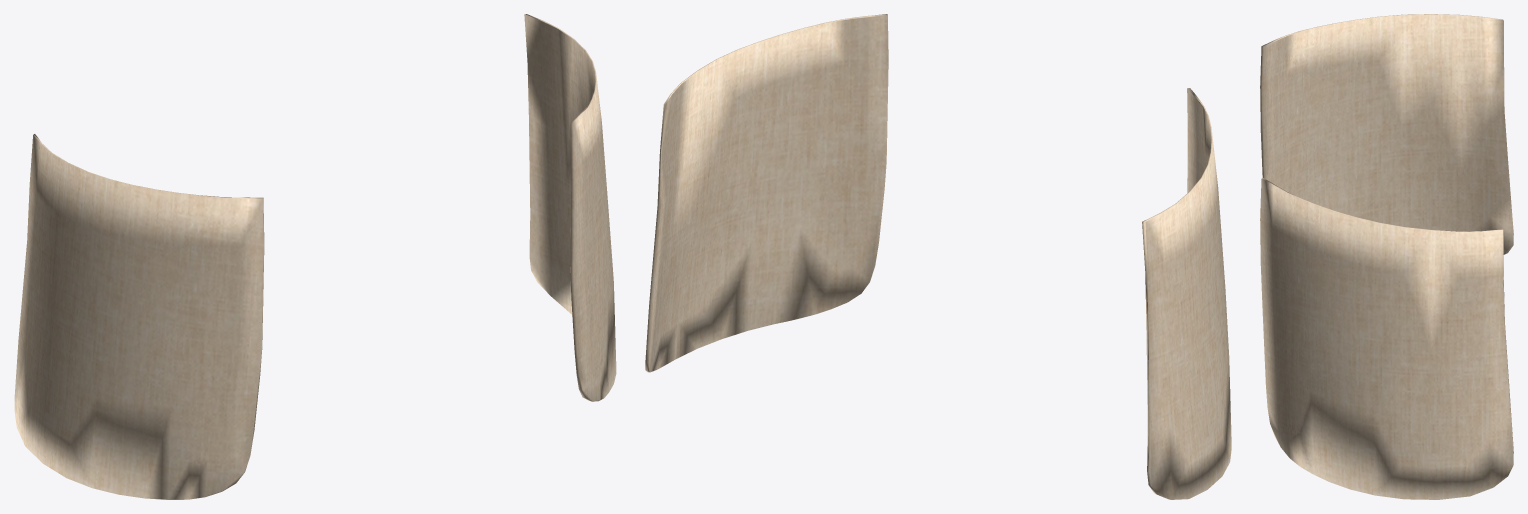
File: Patch_Pockets_n.glb
3 views of the same model, side by side, from view 1: azimuth 30°, elevation 25°; view 2: azimuth 150°, elevation 25°; view 3: azimuth 270°, elevation 25° (orthographic). The views are drawn at different scales.
Parts seen in each view (by area): view 1: Patch_Pockets; view 2: Patch_Pockets; view 3: Patch_Pockets.
Part boxes in pixels (bbox=[...]): Patch_Pockets: bbox=[14, 14, 616, 499]; Patch_Pockets: bbox=[645, 14, 1231, 499]; Patch_Pockets: bbox=[1260, 14, 1513, 499].
Bounding box in the file's own units: 0.0486 × 0.0263 × 0.0222.
1 material, 1 textured.
